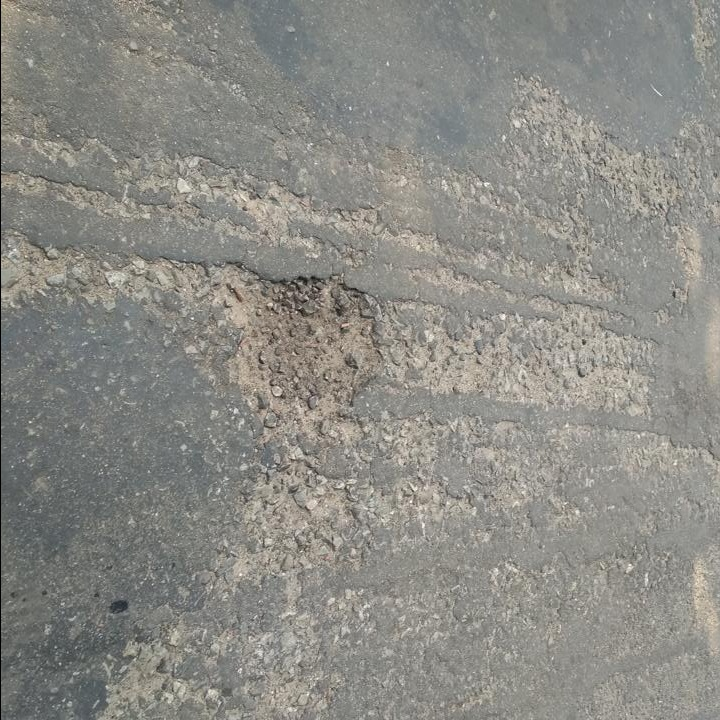pothole: (215, 257, 387, 417)
